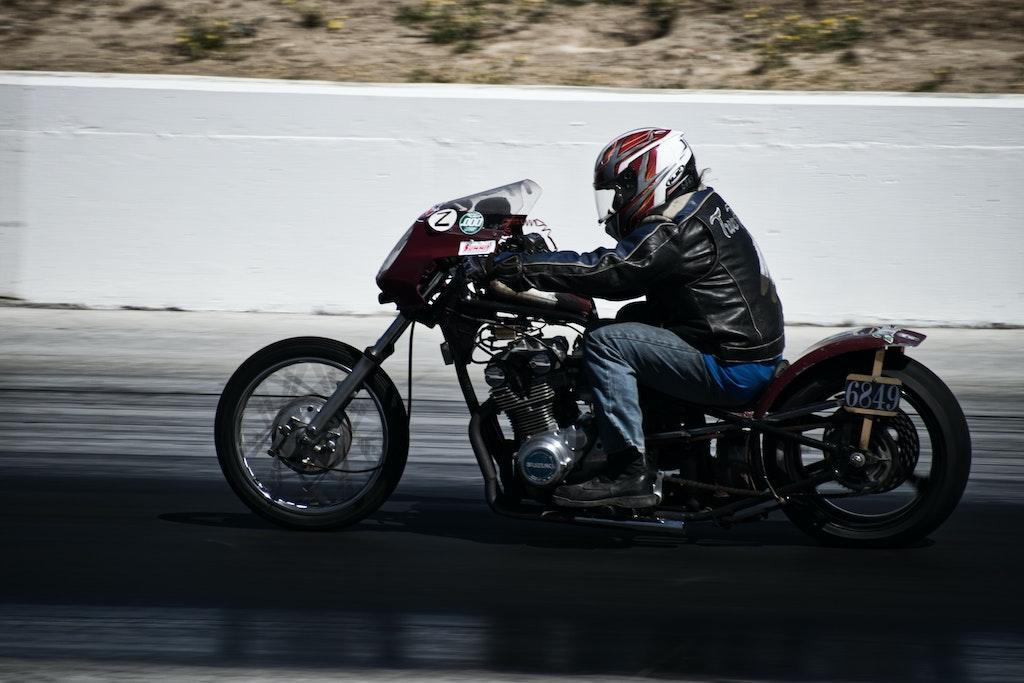helmet: (592, 125, 700, 244)
